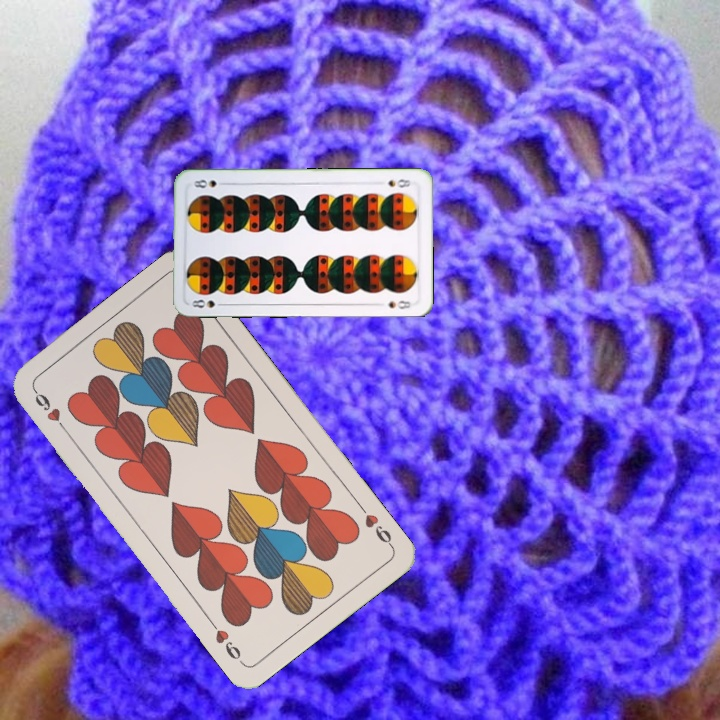H9: (354, 500, 396, 551), (29, 385, 71, 435)
S8: (188, 296, 228, 311), (384, 175, 414, 190)
